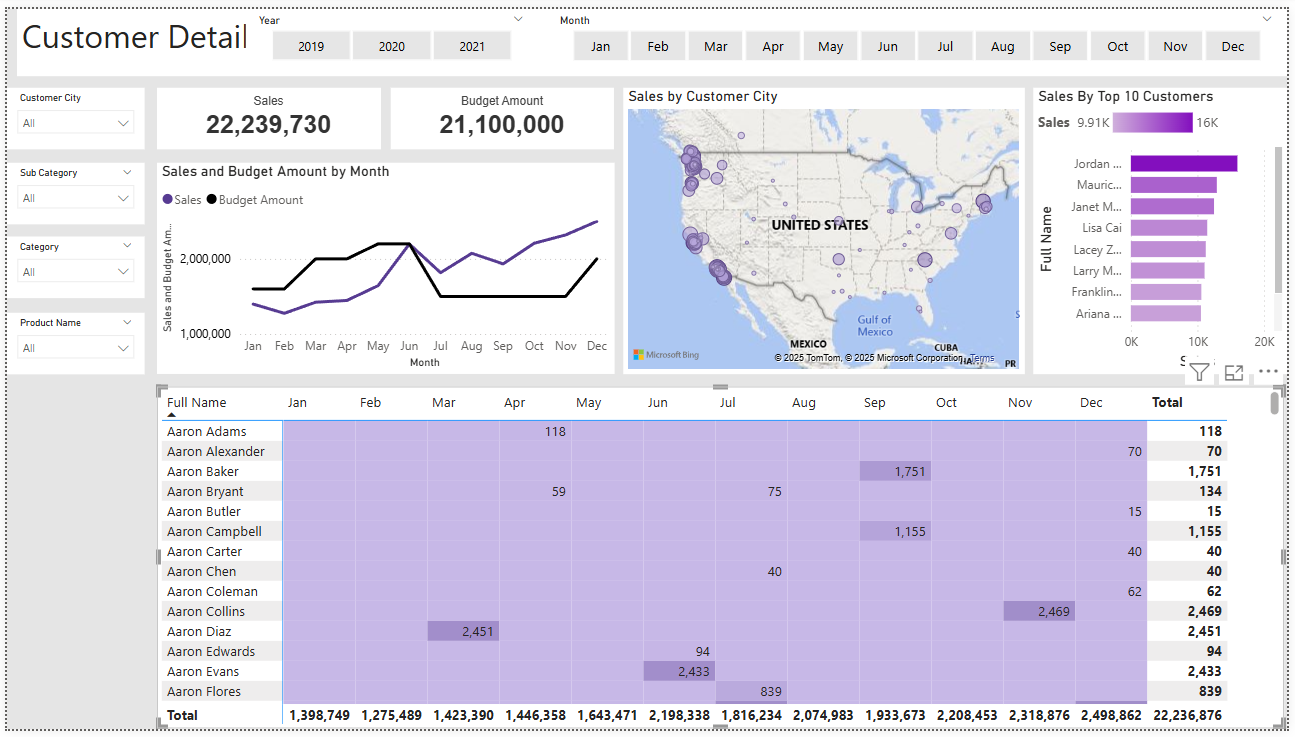

The dashboard page shown, as its layout file describes it:
{"tool":"powerbi","page":{"name":"CUSTOMER DETAILS","canvas":[1280,720],"ordinal":2},"visuals":[{"type":"textbox","box":[10,0,1270,67.5],"z":0},{"type":"slicer","fields":{"Values":["DIM_Calendar.Date.Variation.Date Hierarchy.Year"]},"box":[238.6,0,290,58.6],"z":1000},{"type":"slicer","fields":{"Values":["DIM_Calendar.MonthShort"]},"box":[540,0,737.5,58.8],"z":2000},{"type":"slicer","fields":{"Values":["DIM_Customers.Customer City"]},"box":[0,78.2,137.2,61.7],"z":3000},{"type":"slicer","fields":{"Values":["DIM_Products.Sub Category"]},"box":[0,153.7,137.2,61.7],"z":4000},{"type":"slicer","fields":{"Values":["DIM_Products.Product Category"]},"box":[0,227.8,137.2,61.7],"z":5000},{"type":"slicer","fields":{"Values":["DIM_Products.Product Name"]},"box":[0,303.3,137.2,61.7],"z":6000},{"type":"BBED0A4D4D8D44CE93CF2DAFADEE466C","fields":{"actual":["Key Measures.Sales"]},"box":[150,78.8,223.8,61.2],"z":7000},{"type":"map","fields":{"Category":["DIM_Customers.Customer City"],"Size":["Key Measures.Sales"]},"box":[616.2,78.8,401.2,286.2],"z":8000},{"type":"BBED0A4D4D8D44CE93CF2DAFADEE466C","fields":{"actual":["Key Measures.Budget Amount"]},"box":[384.3,78.6,222.9,61.4],"z":9000},{"type":"lineChart","fields":{"Y":["Key Measures.Sales","Key Measures.Budget Amount"],"Category":["DIM_Calendar.MonthShort"]},"box":[150,153.8,457.5,211.2],"z":10000},{"type":"barChart","title":"Sales By Top 10 Customers","fields":{"Y":["Key Measures.Sales"],"Category":["DIM_Customers.Full Name"]},"box":[1026,79,254,286],"z":11000},{"type":"pivotTable","fields":{"Columns":["DIM_Calendar.MonthShort"],"Values":["Key Measures.Sales"],"Rows":["DIM_Customers.Full Name"]},"box":[150,377.1,1127.1,342.9],"z":12000}]}

Visuals, with their boxes in screenshot pixels (x1, y1, x2, y2), scaled from the page's 1280x720 canvas onto the 1295x737 screenshot:
textbox: Rect(10, 0, 1294, 69)
slicer - DIM_Calendar.Date.Variation.Date Hierarchy.Year: Rect(241, 0, 535, 60)
slicer - DIM_Calendar.MonthShort: Rect(546, 0, 1292, 60)
slicer - DIM_Customers.Customer City: Rect(0, 80, 139, 143)
slicer - DIM_Products.Sub Category: Rect(0, 157, 139, 220)
slicer - DIM_Products.Product Category: Rect(0, 233, 139, 296)
slicer - DIM_Products.Product Name: Rect(0, 310, 139, 374)
BBED0A4D4D8D44CE93CF2DAFADEE466C - Key Measures.Sales: Rect(152, 81, 378, 143)
map - DIM_Customers.Customer City x Key Measures.Sales: Rect(623, 81, 1029, 374)
BBED0A4D4D8D44CE93CF2DAFADEE466C - Key Measures.Budget Amount: Rect(389, 80, 614, 143)
lineChart - Key Measures.Sales x Key Measures.Budget Amount: Rect(152, 157, 615, 374)
"Sales By Top 10 Customers" barChart: Rect(1038, 81, 1294, 374)
pivotTable - DIM_Calendar.MonthShort x Key Measures.Sales: Rect(152, 386, 1292, 736)
